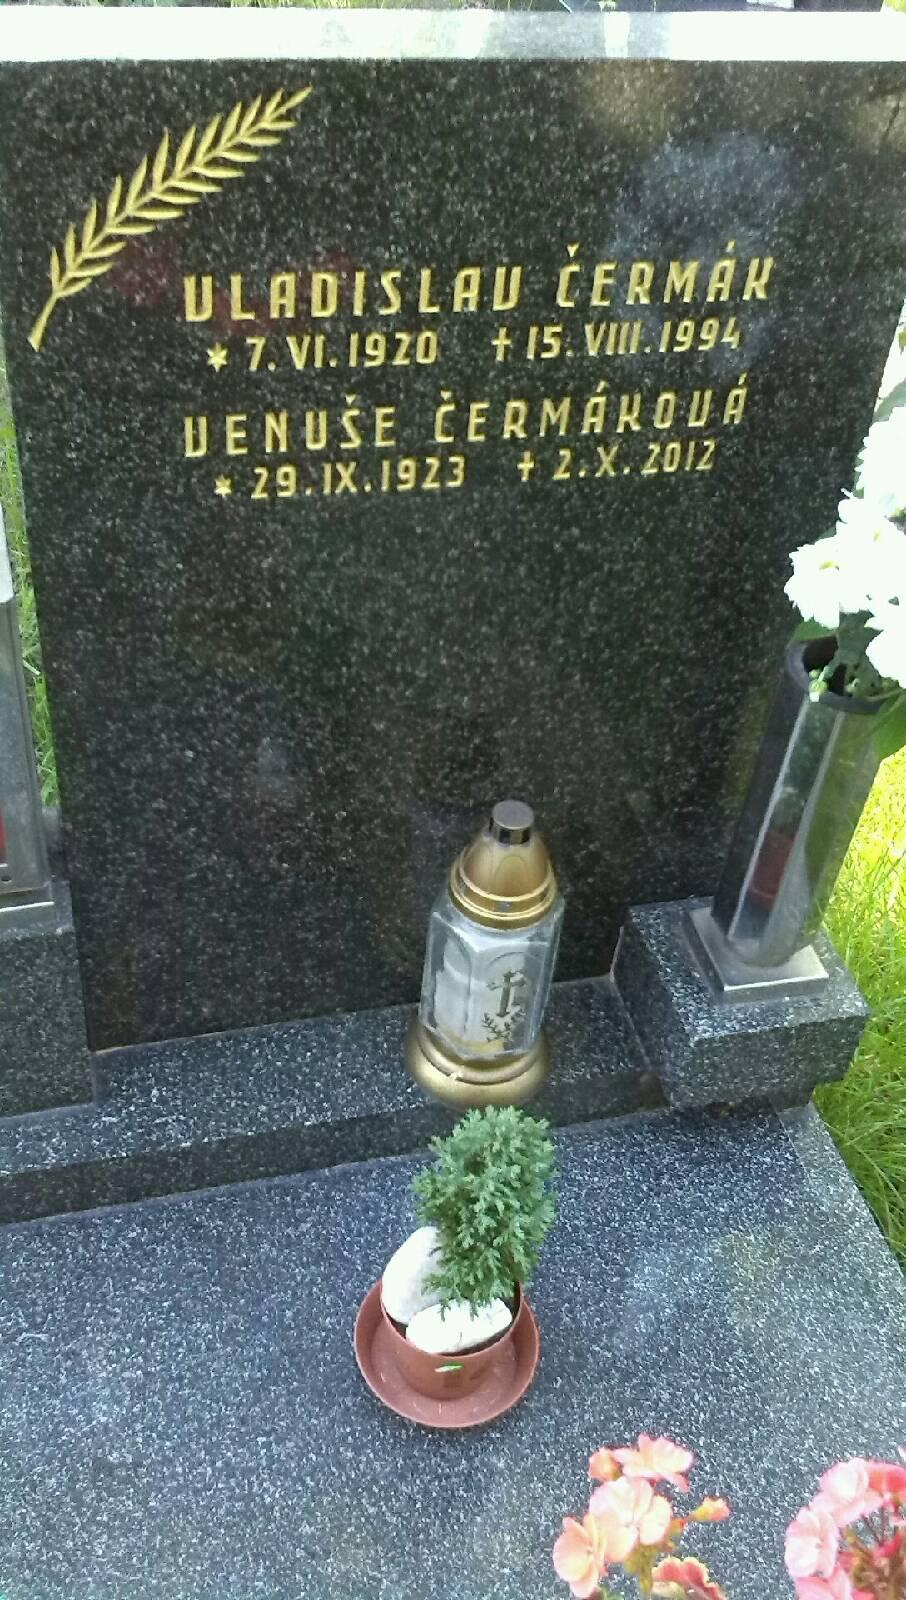upright: (0, 13, 906, 1589)
